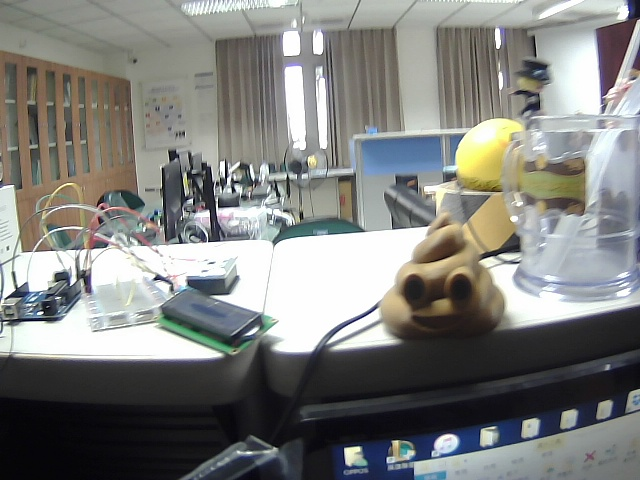shit: (373, 204, 511, 346)
